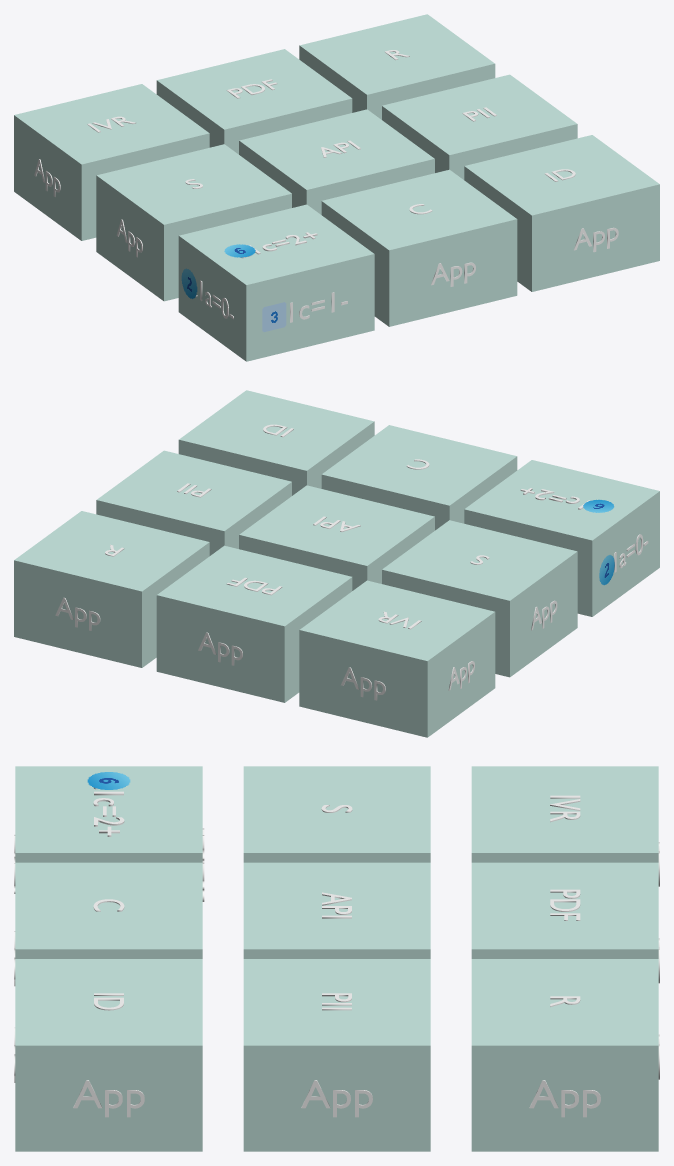
File: block_1.glb
3 renders of one model, top to bottom at view 1: azimuth 30°, elevation 25°; view 2: azimuth 150°, elevation 25°; view 3: azimuth 270°, elevation 25°, orthographic. The views are drawn at different scales.
Visible parts, largest first — view 1: r1_11x9B_1, r1_11x9B_4, r1_11x9B_7, r1_11x9B_2, r1_11x9B_3, r1_11x9B_9, r1_11x9B_6, r1_11x9B_5, r1_11x9B_8; view 2: r1_11x9B_3, r1_11x9B_6, r1_11x9B_9, r1_11x9B_1, r1_11x9B_2, r1_11x9B_7, r1_11x9B_4, r1_11x9B_5, r1_11x9B_8; view 3: r1_11x9B_7, r1_11x9B_9, r1_11x9B_8, r1_11x9B_1, r1_11x9B_4, r1_11x9B_3, r1_11x9B_6, r1_11x9B_2, r1_11x9B_5.
Boxes of the visible parts, left/top/right/bottom form: r1_11x9B_1: left=178, top=204, right=374, bottom=361; r1_11x9B_4: left=321, top=169, right=517, bottom=326; r1_11x9B_7: left=464, top=135, right=659, bottom=291; r1_11x9B_2: left=96, top=144, right=291, bottom=301; r1_11x9B_3: left=14, top=84, right=209, bottom=240; r1_11x9B_9: left=299, top=14, right=495, bottom=119; r1_11x9B_6: left=156, top=49, right=352, bottom=154; r1_11x9B_5: left=239, top=109, right=434, bottom=214; r1_11x9B_8: left=382, top=74, right=577, bottom=179; r1_11x9B_3: left=299, top=580, right=495, bottom=737; r1_11x9B_6: left=156, top=545, right=352, bottom=702; r1_11x9B_9: left=14, top=511, right=209, bottom=667; r1_11x9B_1: left=464, top=460, right=659, bottom=616; r1_11x9B_2: left=382, top=520, right=577, bottom=677; r1_11x9B_7: left=178, top=390, right=374, bottom=495; r1_11x9B_4: left=321, top=425, right=517, bottom=530; r1_11x9B_5: left=239, top=485, right=434, bottom=590; r1_11x9B_8: left=96, top=450, right=291, bottom=555; r1_11x9B_7: left=14, top=959, right=202, bottom=1151; r1_11x9B_9: left=471, top=959, right=659, bottom=1151; r1_11x9B_8: left=243, top=959, right=430, bottom=1151; r1_11x9B_1: left=14, top=766, right=204, bottom=901; r1_11x9B_4: left=14, top=862, right=202, bottom=986; r1_11x9B_3: left=471, top=766, right=659, bottom=886; r1_11x9B_6: left=471, top=862, right=659, bottom=983; r1_11x9B_2: left=243, top=766, right=430, bottom=862; r1_11x9B_5: left=243, top=862, right=430, bottom=958.
Size of the model in its own units: 0.1137 by 0.0213 by 0.1104.
8 materials, 6 textured.
